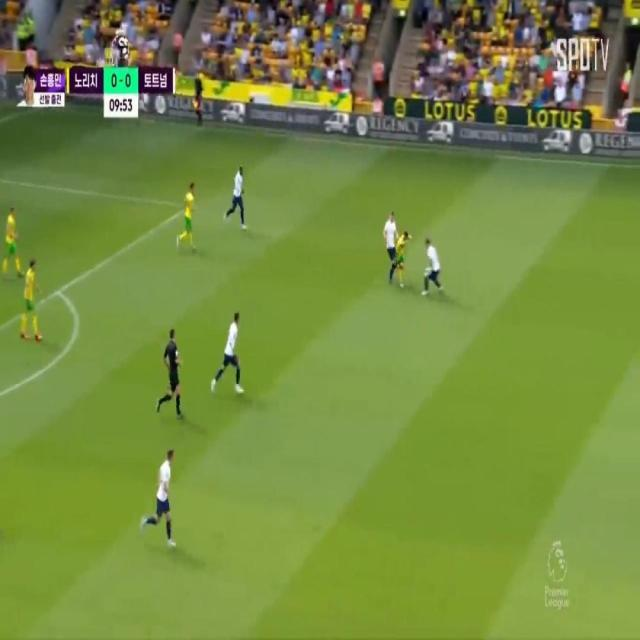player: (18, 257, 46, 340), (223, 307, 242, 397), (4, 201, 22, 292), (158, 445, 174, 546), (378, 208, 397, 286), (176, 181, 198, 248), (424, 230, 446, 291), (396, 228, 415, 289), (233, 163, 246, 228)
referee: (160, 329, 182, 417), (190, 69, 206, 124)
